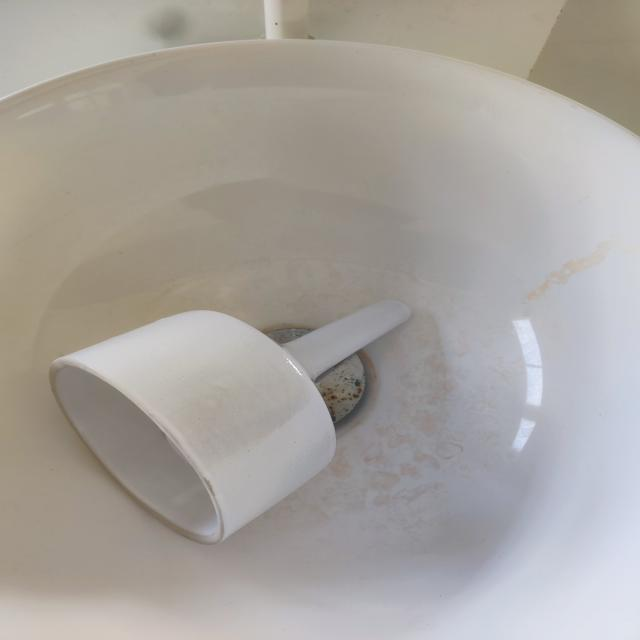Buchner_Funnel: (26, 242, 490, 563)
